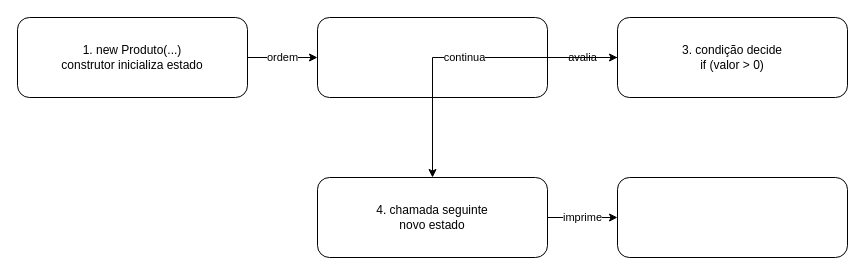
This 865x275 diagram has some shape labels left out. Each missing label, with the centre of its shape:
"2. método altera estado ex.: adicionar(5)" belongs at point 432,57.
"5. saída resultado observado" belongs at point 732,217.
